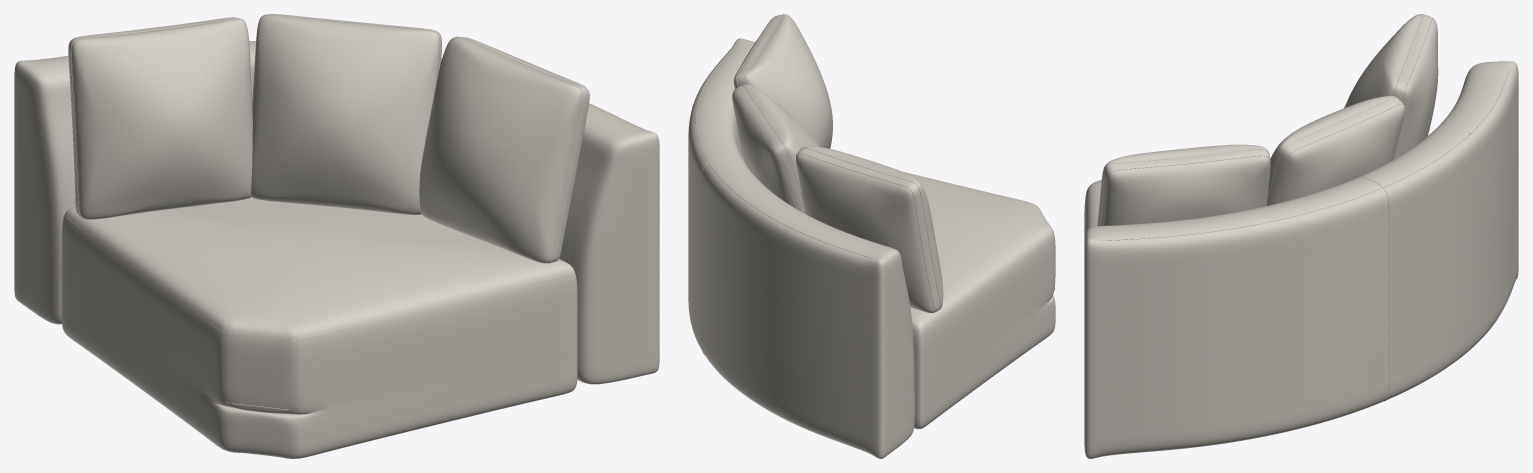
The model's file is corner.glb.
3 renders of one model, left to right at view 1: azimuth 30°, elevation 25°; view 2: azimuth 150°, elevation 25°; view 3: azimuth 270°, elevation 25°, orthographic. The views are drawn at different scales.
Size of the model in its own units: 1.13 by 0.7746 by 1.13.
Materials: 1 (1 with a texture image).
